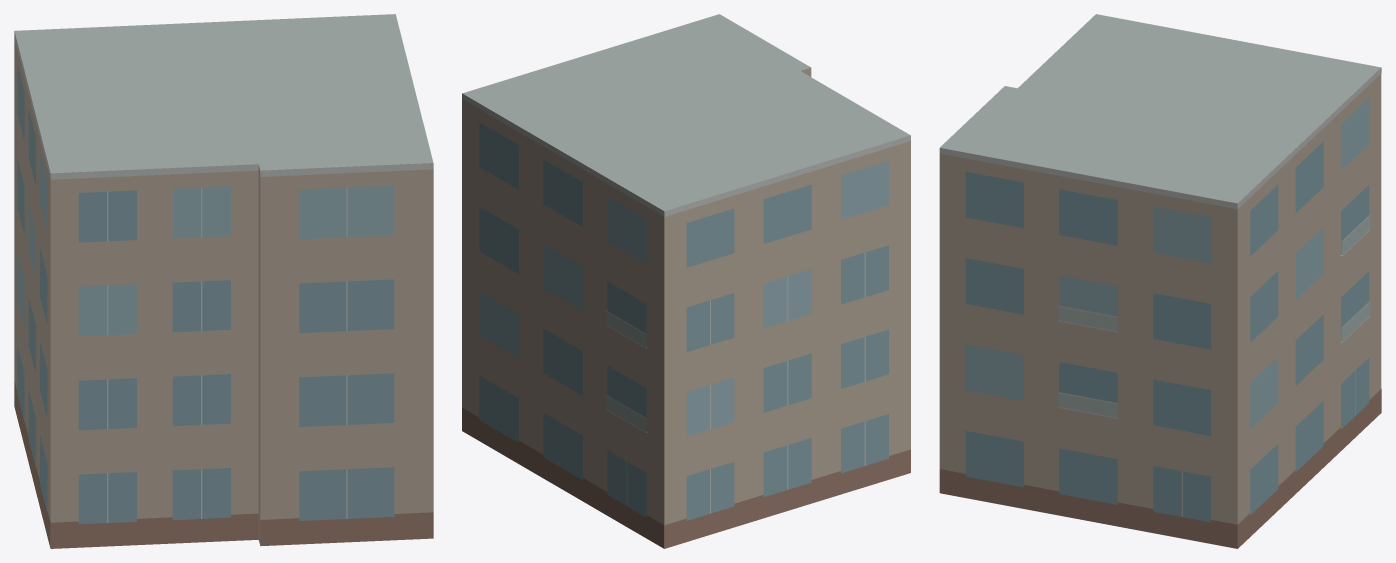
File: survey-upis-32602271.glb
3 renders of one model, left to right at view 1: azimuth 30°, elevation 25°; view 2: azimuth 150°, elevation 25°; view 3: azimuth 270°, elevation 25°, orthographic. The views are drawn at different scales.
Visible parts, largest first — view 1: survey-upis-32602271.tmp; view 2: survey-upis-32602271.tmp; view 3: survey-upis-32602271.tmp.
Part boxes in pixels (box(x1,y1,x2,y2)): survey-upis-32602271.tmp: box(14, 14, 433, 548); survey-upis-32602271.tmp: box(462, 14, 910, 548); survey-upis-32602271.tmp: box(939, 14, 1381, 548).
Size of the model in its own units: 16.95 by 14.4 by 16.71.
